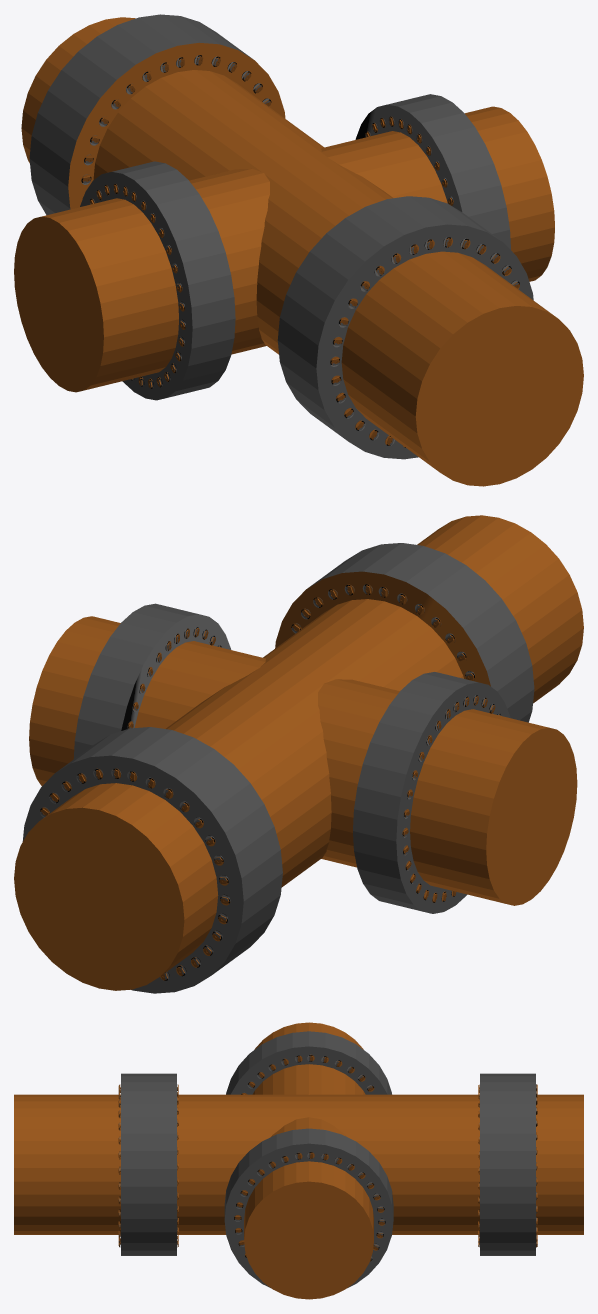
The model's file is ObjectsForThereWFR(PipeCross).fbx.
The picture shows the model from 3 angles, top to bottom: view 1: azimuth 30°, elevation 25°; view 2: azimuth 150°, elevation 25°; view 3: azimuth 270°, elevation 25°; orthographic projection. The views are drawn at different scales.
Parts seen in each view (by area): view 1: finalCopyCross; view 2: finalCopyCross; view 3: finalCopyCross.
Part boxes in pixels (x1=…): finalCopyCross: x1=14, y1=14, x2=583, y2=486; finalCopyCross: x1=14, y1=515, x2=583, y2=993; finalCopyCross: x1=14, y1=1022, x2=583, y2=1299.
Bounding box in the file's own units: 536 × 260 × 812.
